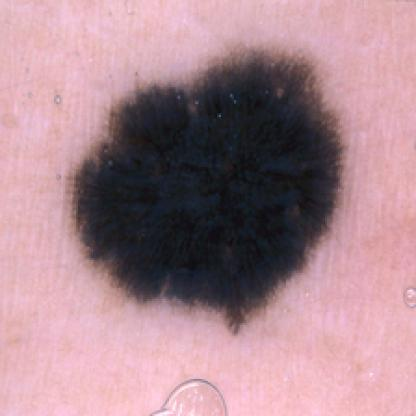benign: (48, 39, 364, 327)
